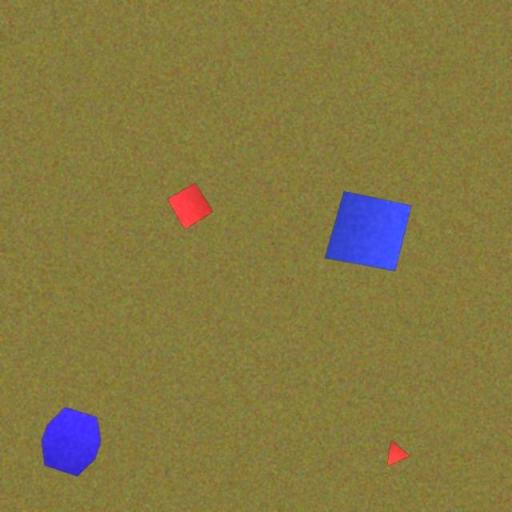BLUE_SQUARE: (324, 190, 413, 272)
RED_SQUARE: (166, 182, 214, 230)
